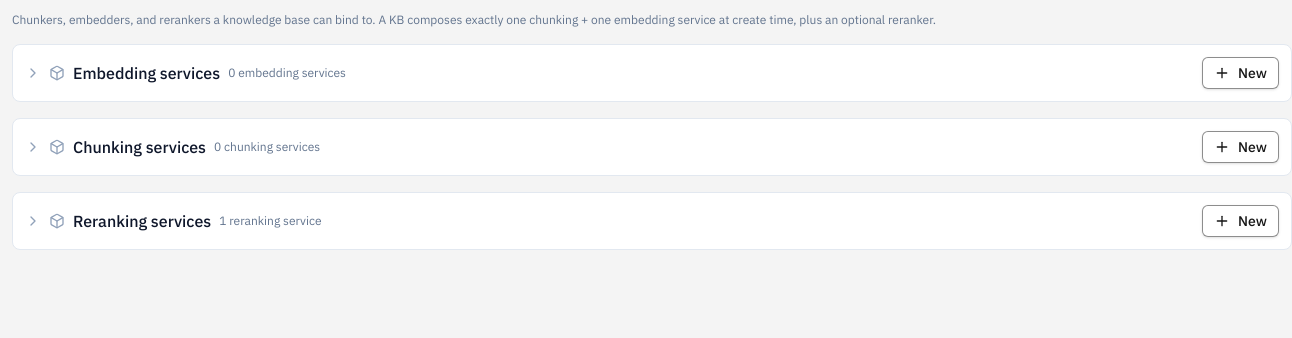
Test: ServicesPanel › expands the reranking subpanel and renders its rows
Click the button "Reranking services 1 reranking service". click: (142, 221)
box: top-left (25, 209), bottom-right (1190, 233)
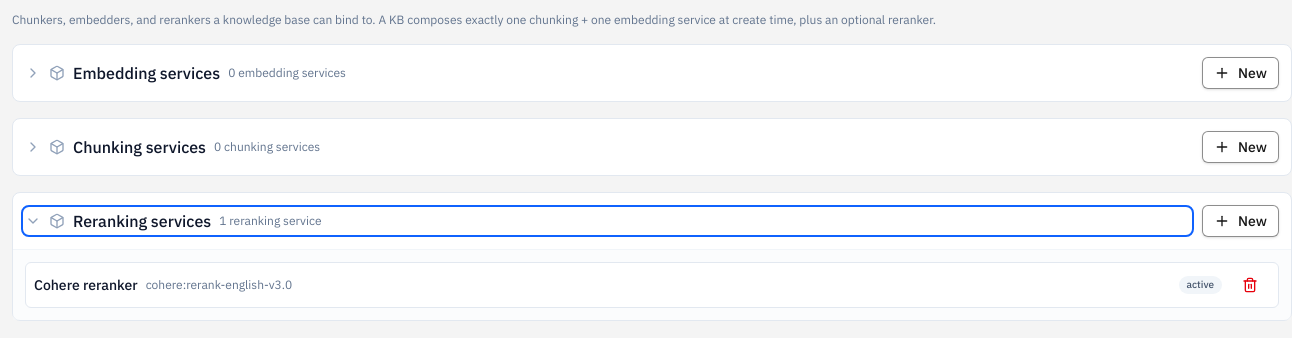
Expected: the text "Cohere reranker" is shown, top-left (34, 275), bottom-right (138, 295)
Expected: the text "cohere:rerank-english-v3.0" is shown, top-left (146, 277), bottom-right (292, 293)
